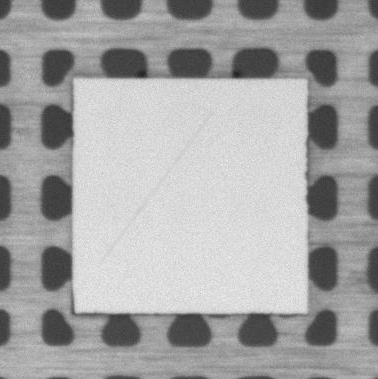DIE_CRACK: (102, 113, 211, 262)
